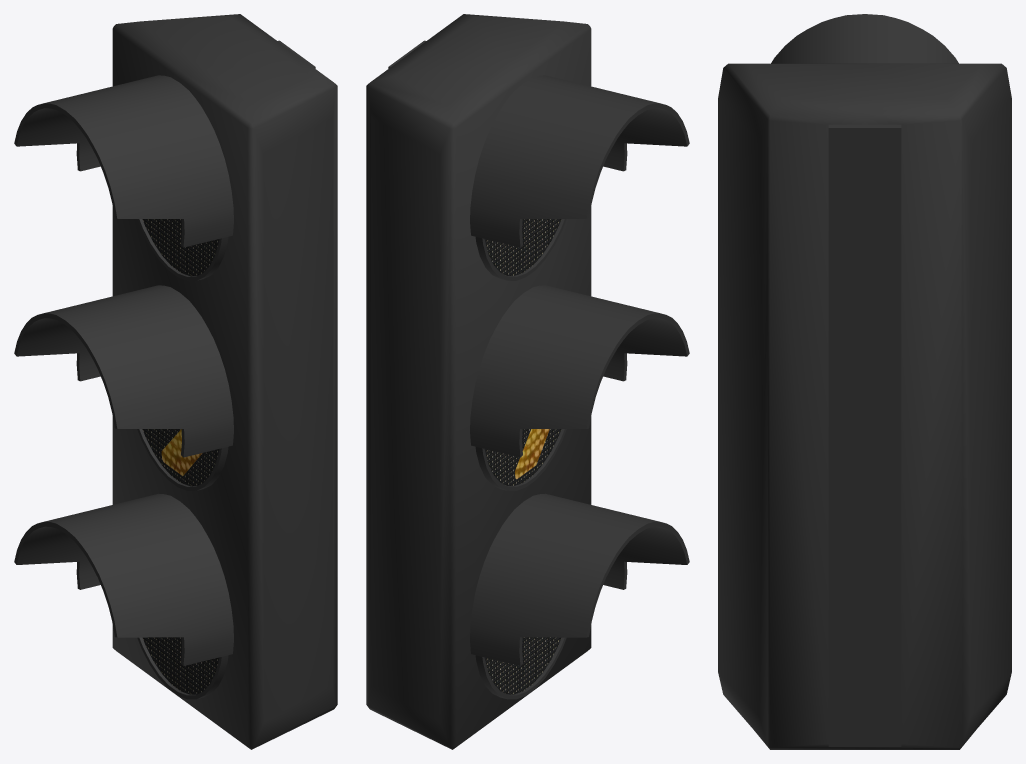
Rendered from 竖排右转灯_YellowLight.fbx.
The picture shows the model from 3 angles, left to right: view 1: azimuth 30°, elevation 25°; view 2: azimuth 150°, elevation 25°; view 3: azimuth 270°, elevation 25°; orthographic projection.
Parts seen in each view (by area): view 1: 竖排右转灯_YellowLight; view 2: 竖排右转灯_YellowLight; view 3: 竖排右转灯_YellowLight.
Boxes of the visible parts, x1,y1,x2,y2 form: 竖排右转灯_YellowLight: [14, 14, 337, 749]; 竖排右转灯_YellowLight: [366, 14, 689, 749]; 竖排右转灯_YellowLight: [718, 14, 1011, 749].
Bounding box in the file's own units: 0.6 × 1.58 × 0.65.
Materials: 3 (2 with a texture image).
